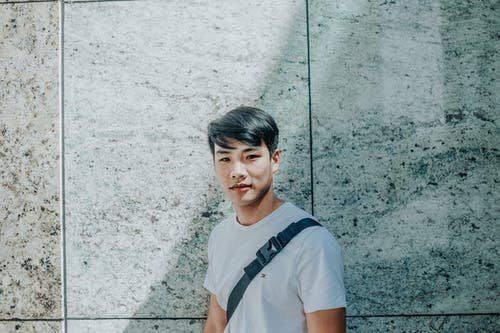Sober: (215, 132, 266, 201)
